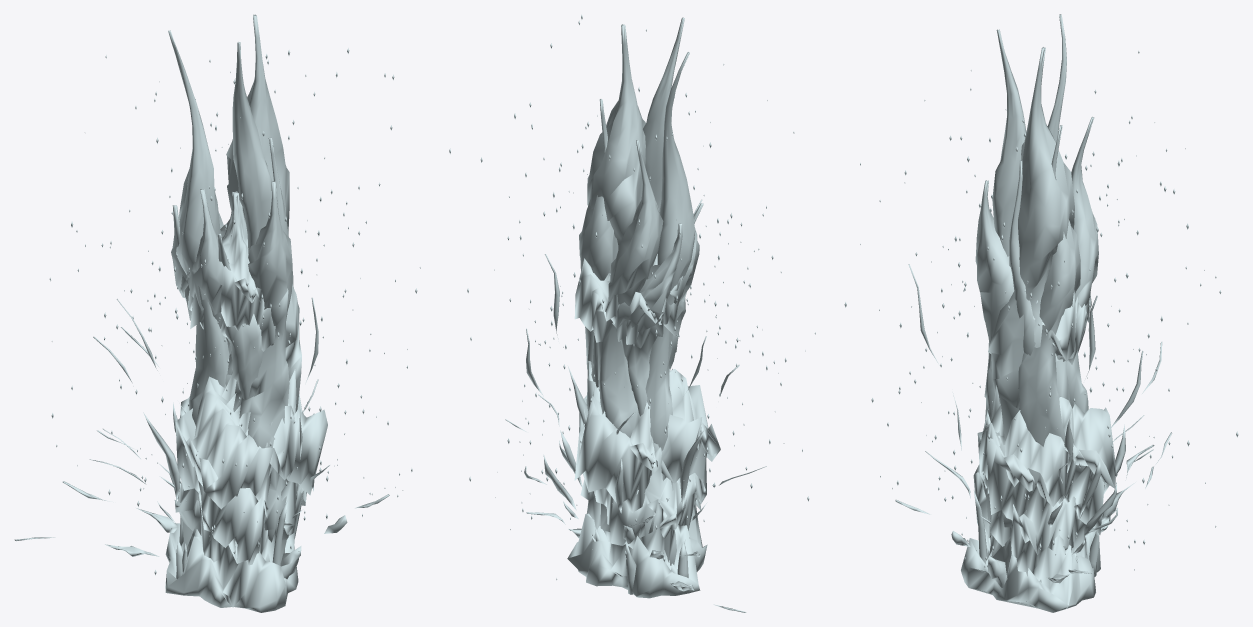
Rendered from slender-peak.glb.
The picture shows the model from 3 angles, left to right: view 1: azimuth 30°, elevation 25°; view 2: azimuth 150°, elevation 25°; view 3: azimuth 270°, elevation 25°; orthographic projection. The views are drawn at different scales.
Parts seen in each view (by area): view 1: Shell water / deforming core, jets and drops; view 2: Shell water / deforming core, jets and drops; view 3: Shell water / deforming core, jets and drops.
Part boxes in pixels (left/top/right/bottom): Shell water / deforming core, jets and drops: left=14, top=14, right=420, bottom=612; Shell water / deforming core, jets and drops: left=449, top=14, right=815, bottom=612; Shell water / deforming core, jets and drops: left=844, top=14, right=1238, bottom=612.
Size of the model in its own units: 0.6056 by 0.9696 by 0.635.
